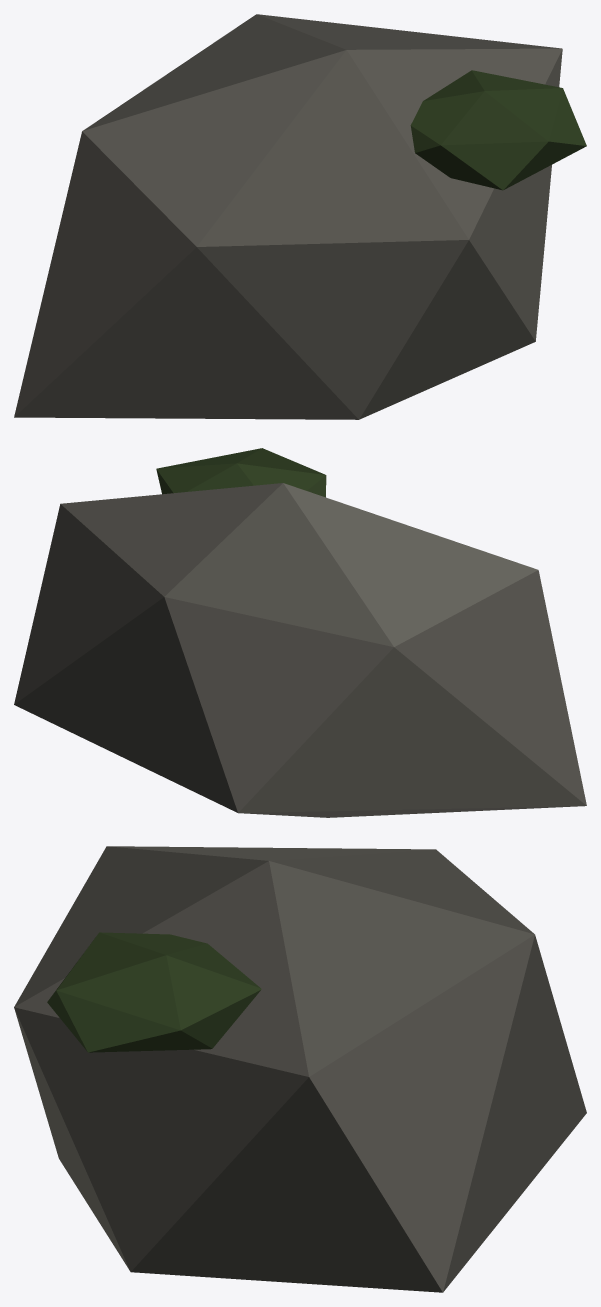
Rendered from rock0.glb.
3 renders of one model, top to bottom at view 1: azimuth 30°, elevation 25°; view 2: azimuth 150°, elevation 25°; view 3: azimuth 270°, elevation 25°, orthographic. The views are drawn at different scales.
Visible parts, largest first — view 1: Rock0; view 2: Rock0; view 3: Rock0.
Part boxes in pixels (box(x1,y1,x2,y2)): Rock0: box(14, 14, 586, 419); Rock0: box(14, 448, 586, 817); Rock0: box(14, 846, 586, 1292).
Size of the model in its own units: 2.31 by 1.39 by 1.69.
